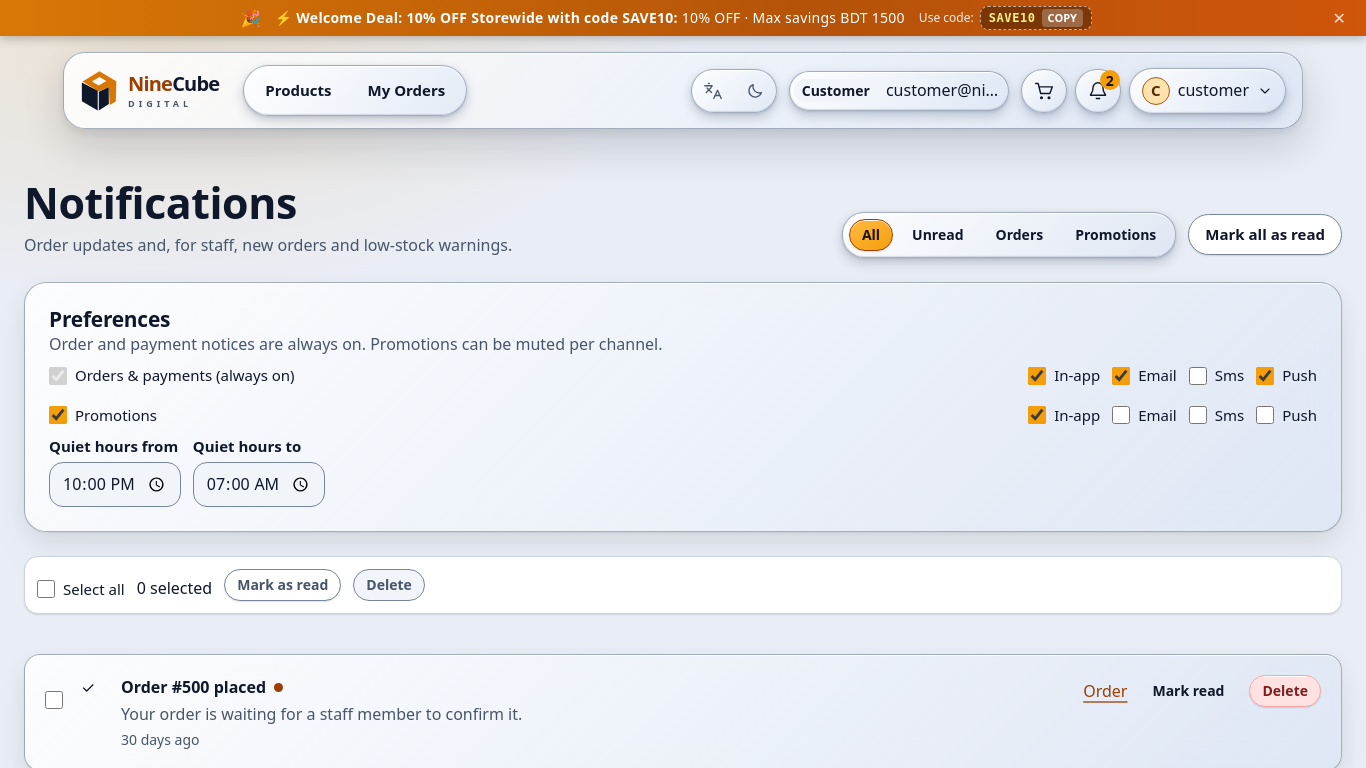
Test: Notifications page › marks the selected rows read in one action and clears the selection
The image size is (1366, 768).
Expected: the button "Mark as read" is disabled, left=224, top=569, right=341, bottom=601
Click the checkbox named "Select Order #500 placed": (54,700) left=45, top=679, right=63, bottom=721
(page scrolled)
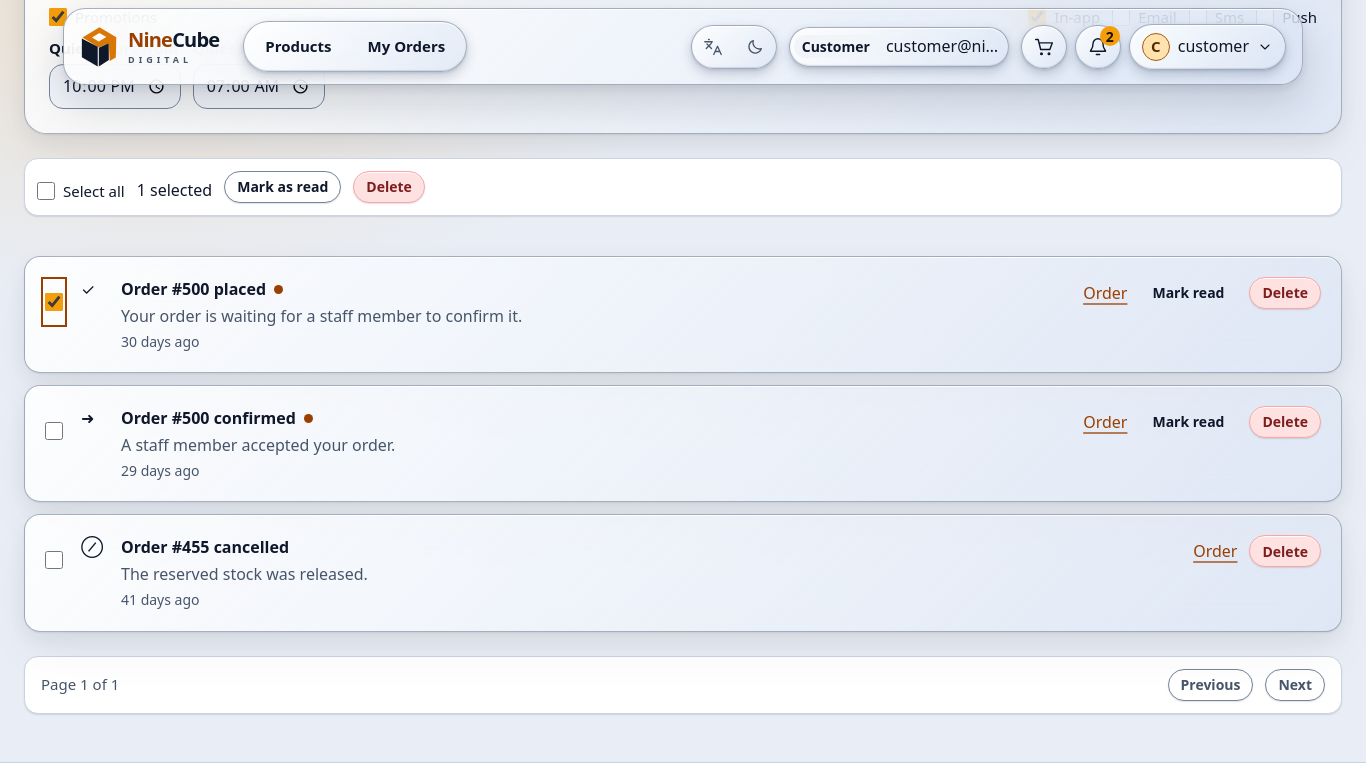
Click the checkbox named "Select Order #500 confirmed": (54,431) left=45, top=410, right=63, bottom=452
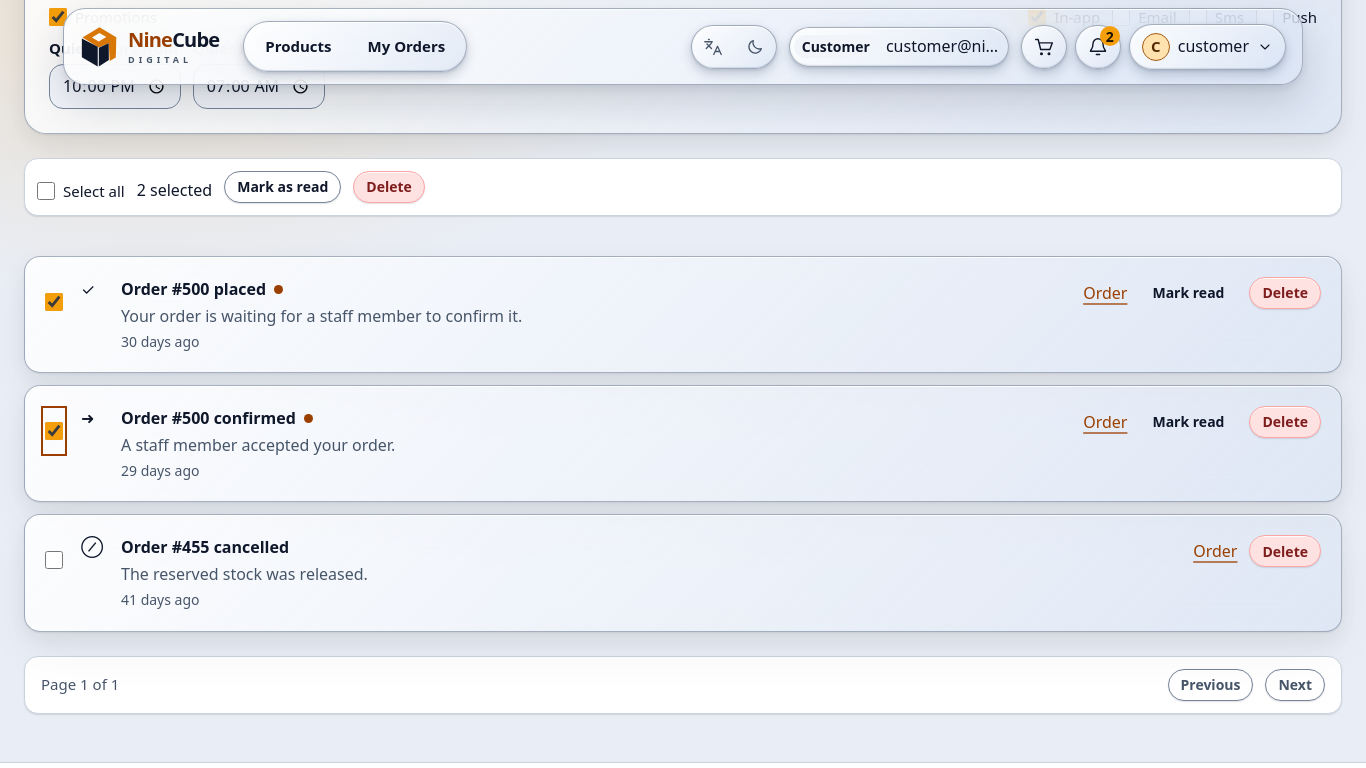
Expected: the text "2 selected" is shown, left=137, top=178, right=212, bottom=203
Click the button "Mark as read": (283,187) left=224, top=171, right=341, bottom=203
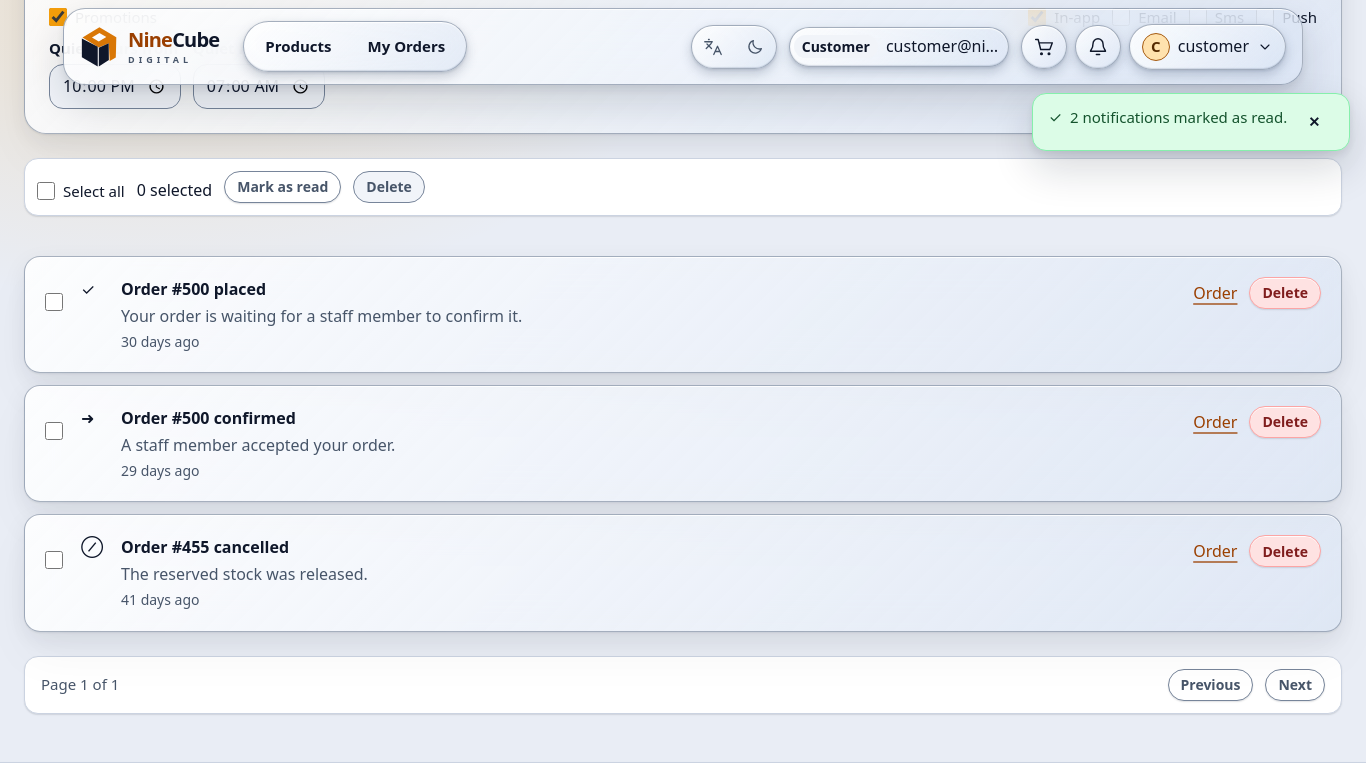
Expected: the text "2 notifications marked as read." is shown, left=1070, top=106, right=1287, bottom=129
Expected: the text "0 selected" is shown, left=137, top=178, right=212, bottom=203
Expected: the button "Delete" in the row of "selected" is disabled, left=353, top=171, right=425, bottom=203
